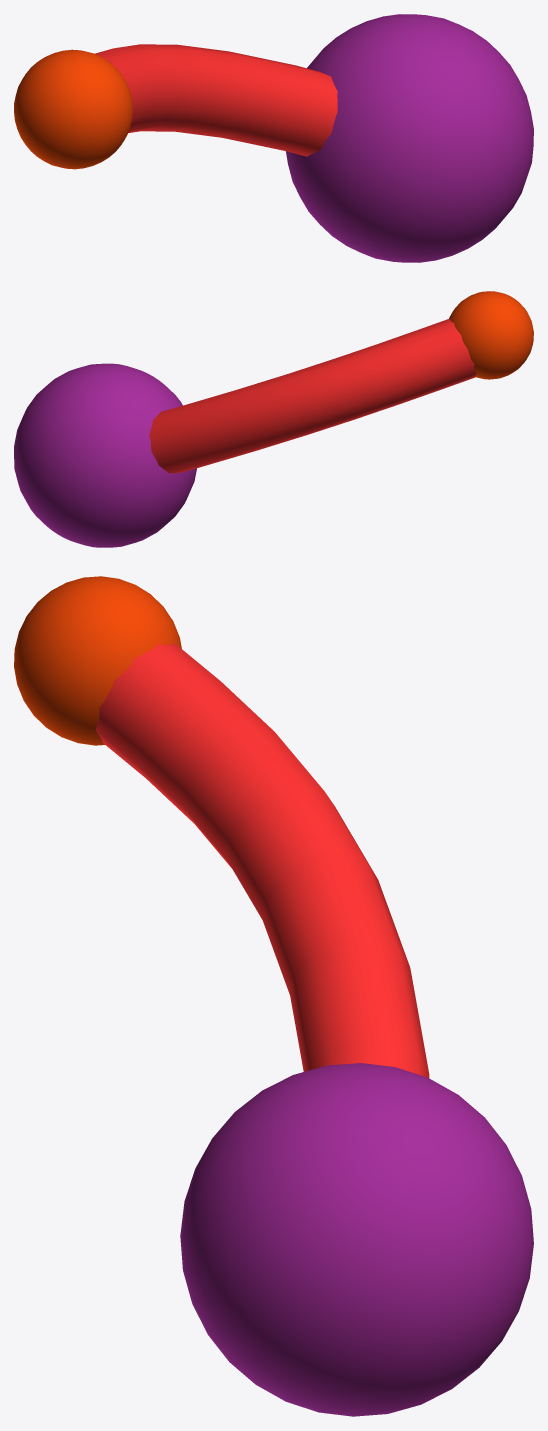
File: SM_PlayerArmLeft.FBX
3 renders of one model, top to bottom at view 1: azimuth 30°, elevation 25°; view 2: azimuth 150°, elevation 25°; view 3: azimuth 270°, elevation 25°, orthographic. The views are drawn at different scales.
Parts seen in each view (by area): view 1: Sphere021; view 2: Sphere021; view 3: Sphere021.
Part boxes in pixels (x1=…): Sphere021: x1=14, y1=14, x2=533, y2=262; Sphere021: x1=14, y1=291, x2=533, y2=547; Sphere021: x1=14, y1=576, x2=533, y2=1416.
Size of the model in its own units: 85.29 by 50.98 by 46.21.
